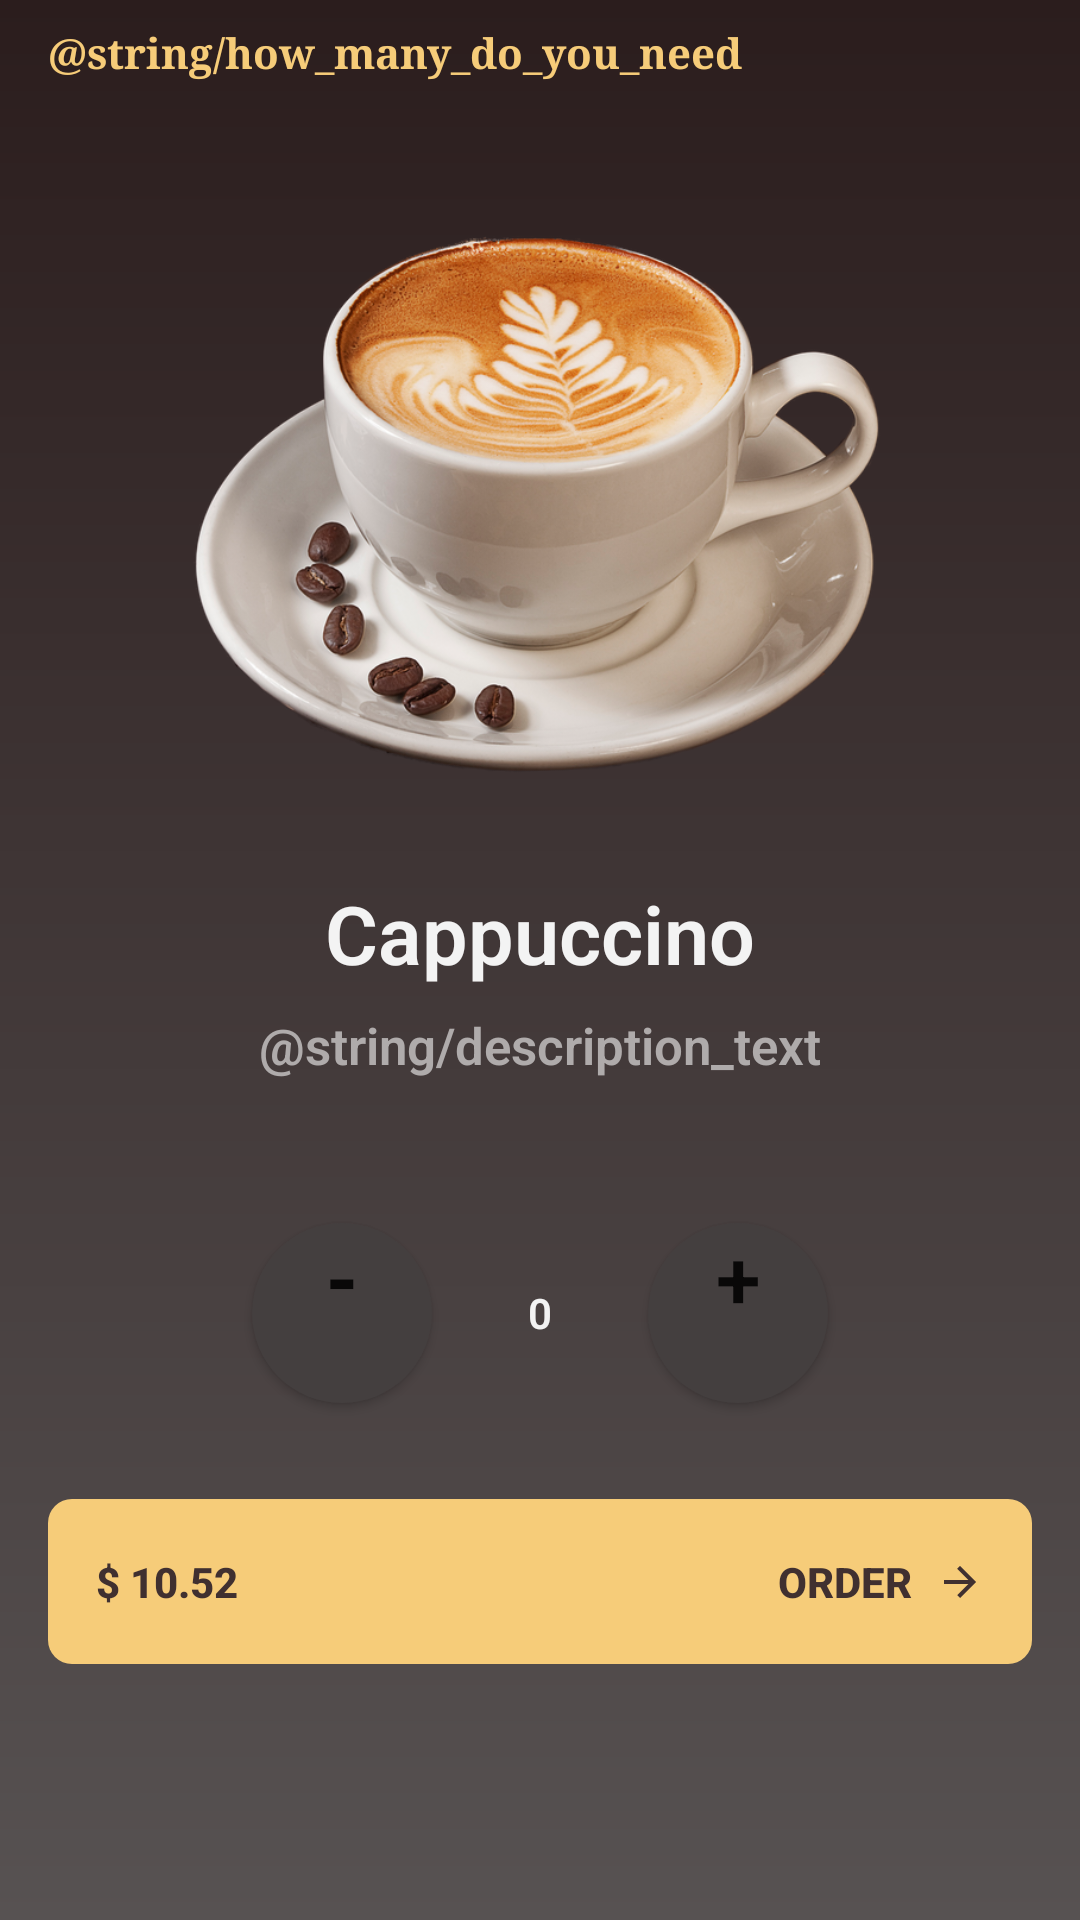

Where icons sit on this 1080x1920 app screen, as (x1, y1, x2, y2):
arrow right: (944, 1566, 976, 1598)
